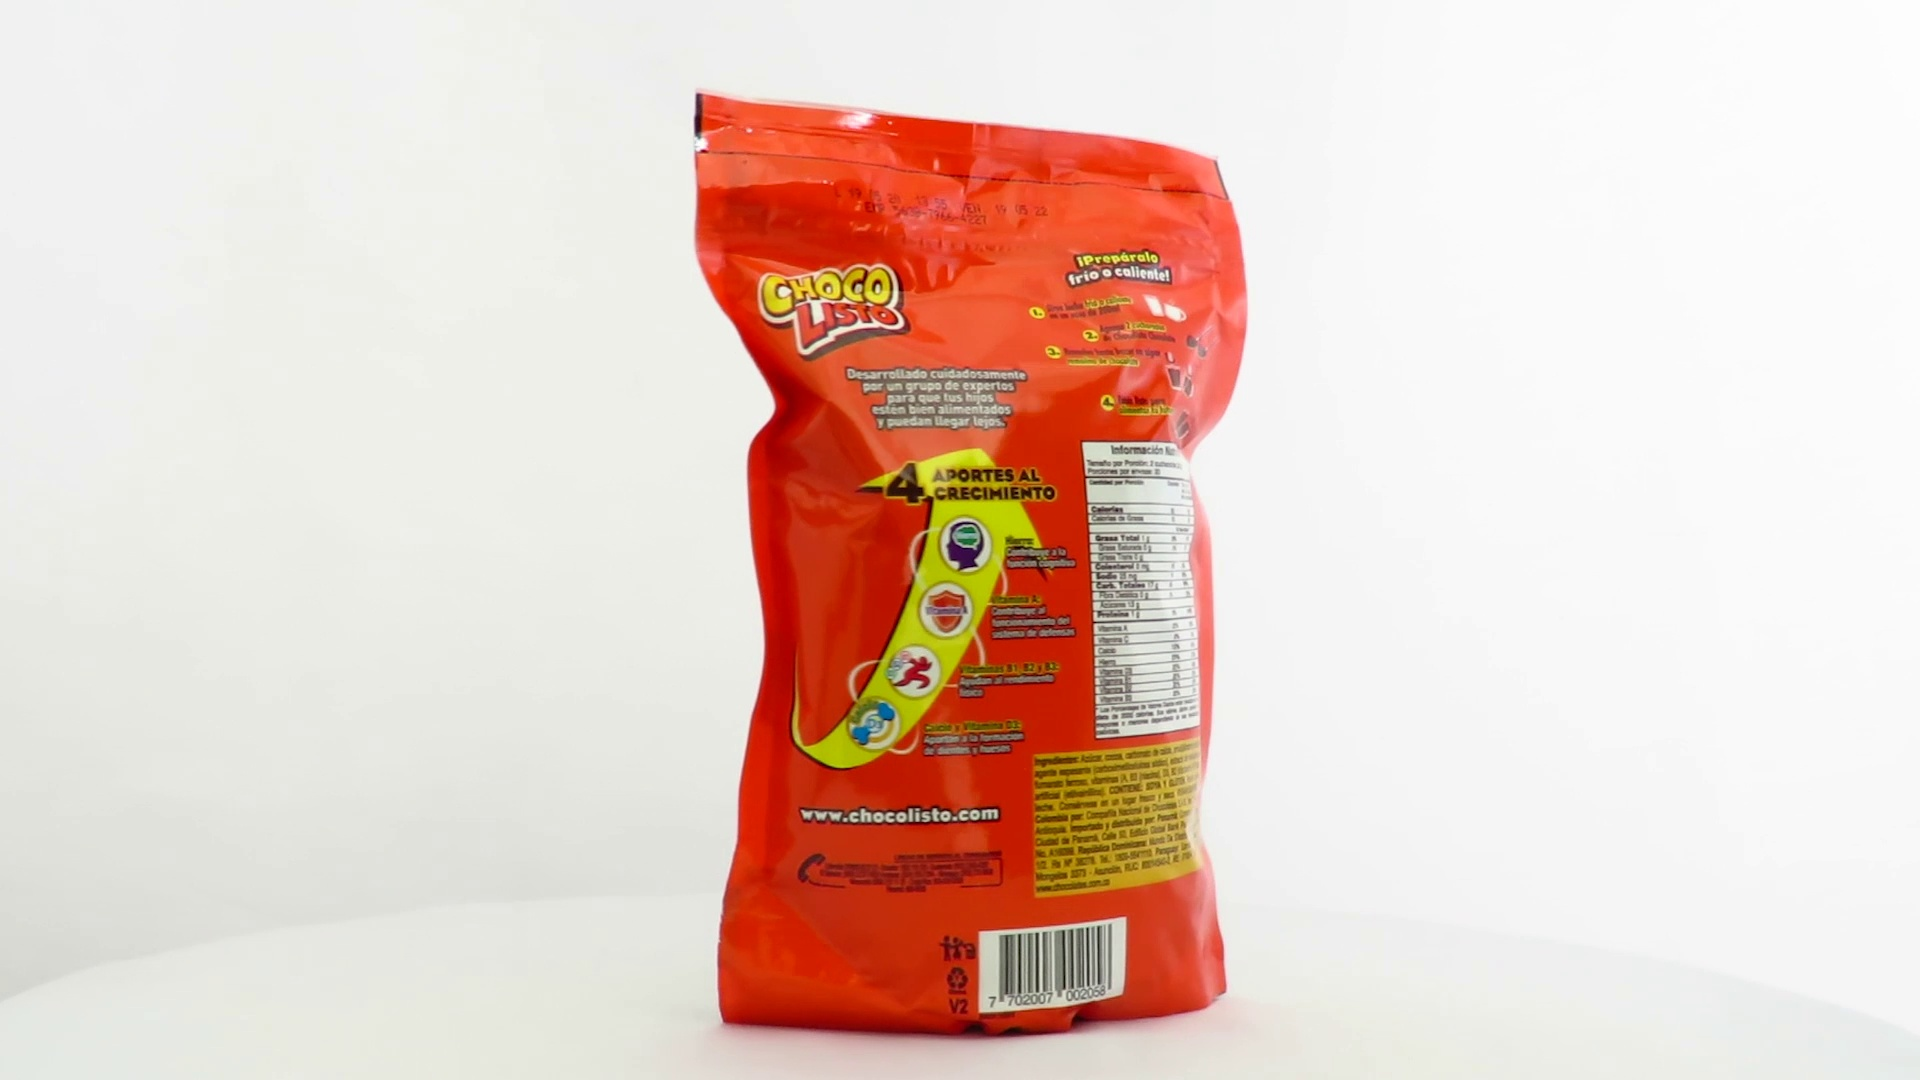COL0170103DYP40000: (687, 88, 1254, 1046)
